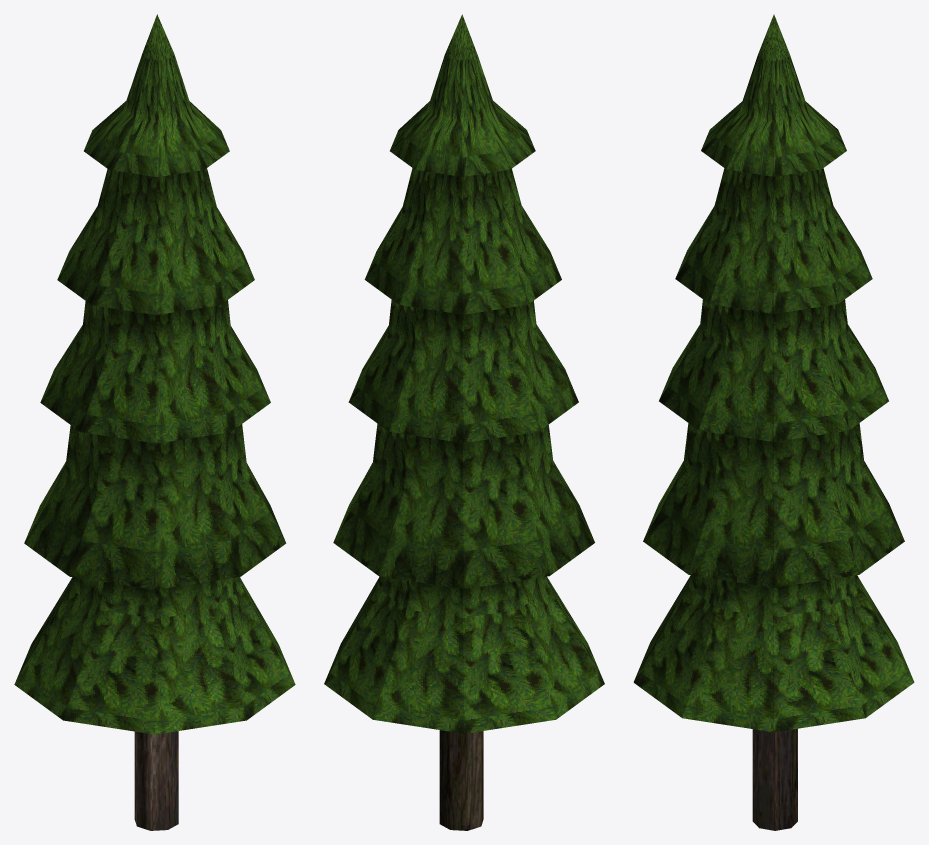
Rendered from Tree5Textured.fbx.
3 renders of one model, left to right at view 1: azimuth 30°, elevation 25°; view 2: azimuth 150°, elevation 25°; view 3: azimuth 270°, elevation 25°, orthographic.
Parts seen in each view (by area): view 1: pCylinder6, pCylinder5; view 2: pCylinder6, pCylinder5; view 3: pCylinder6, pCylinder5.
Part boxes in pixels (bbox=[...]): pCylinder6: bbox=[14, 14, 295, 734]; pCylinder5: bbox=[134, 731, 178, 830]; pCylinder6: bbox=[324, 14, 604, 733]; pCylinder5: bbox=[439, 730, 483, 830]; pCylinder6: bbox=[633, 14, 914, 732]; pCylinder5: bbox=[752, 728, 797, 830].
Size of the model in its own units: 187 by 602 by 190.
